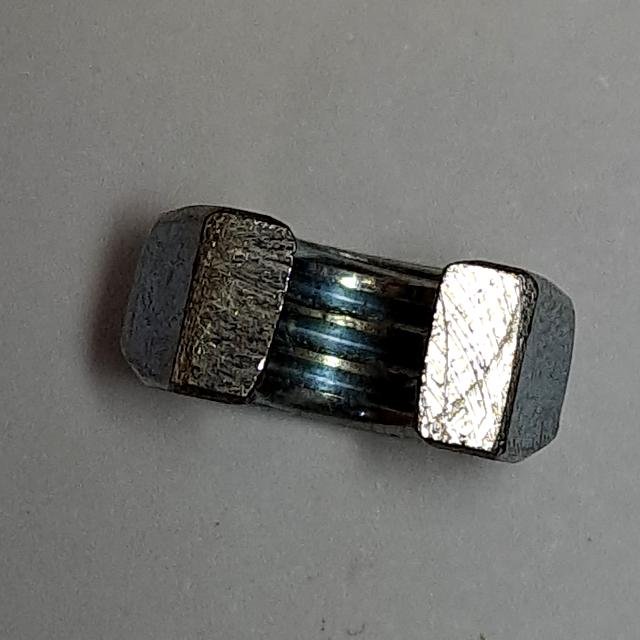Side-Fracture: (115, 192, 586, 486)
